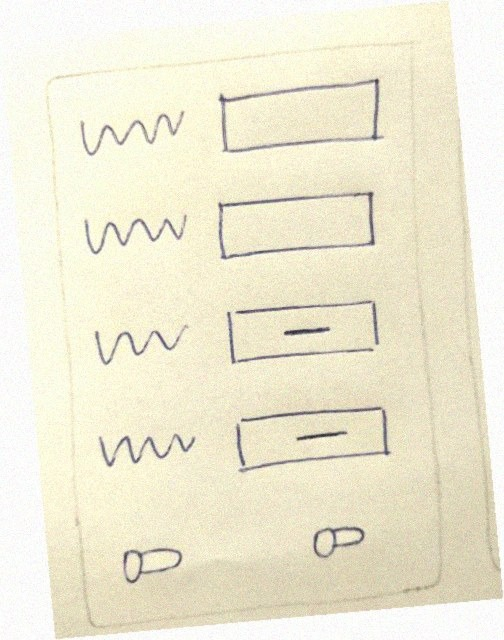button: (227, 396, 399, 481), (220, 289, 388, 375)
switch: (109, 533, 191, 591), (298, 511, 379, 568)
text: (68, 97, 191, 166), (75, 196, 198, 264), (80, 306, 203, 374), (89, 413, 211, 481)
text_input: (210, 73, 390, 169), (208, 176, 389, 271)
